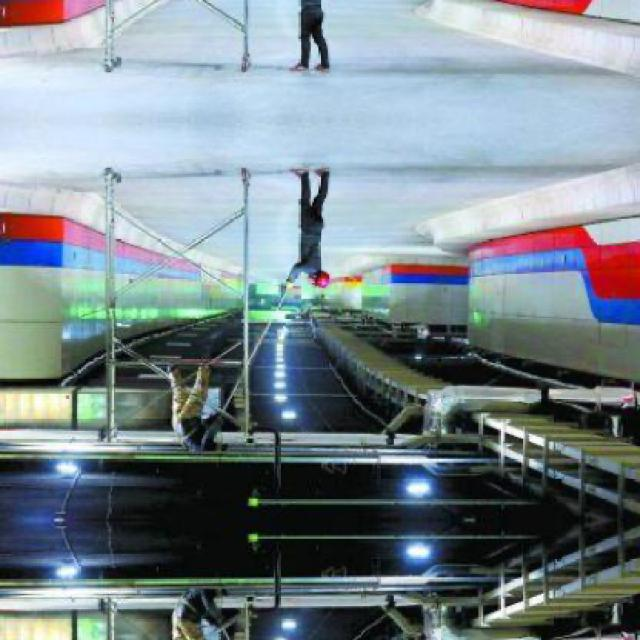con casco: (314, 230, 350, 311)
